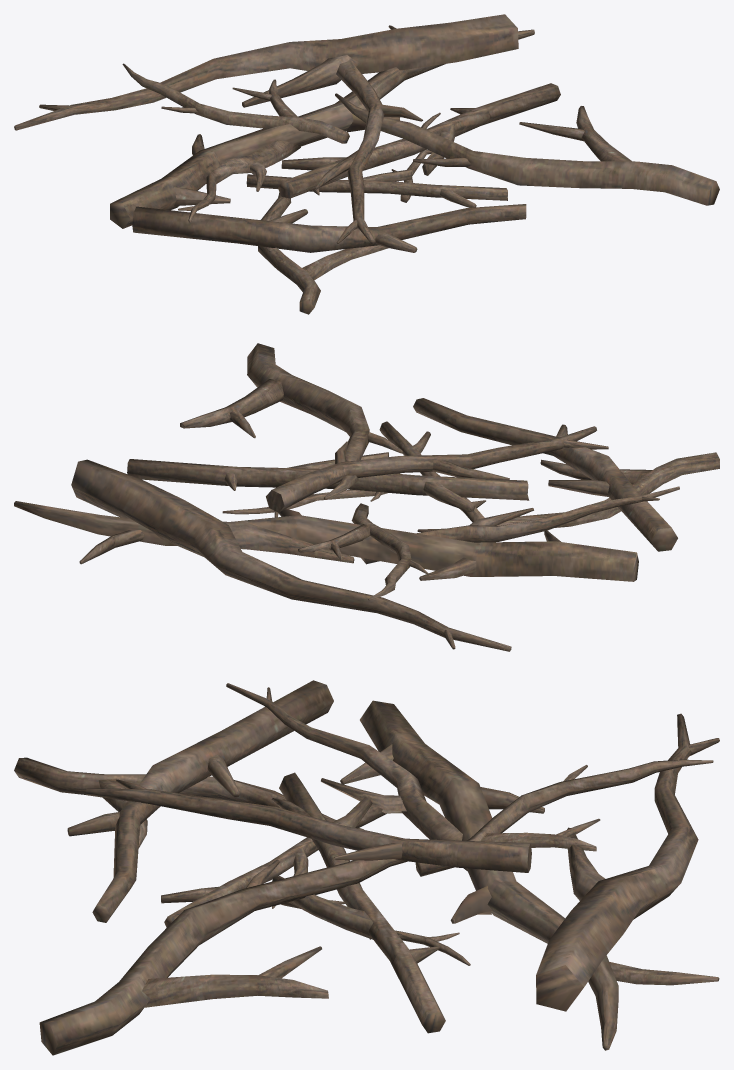
Rendered from CollectibleBranch (4).fbx.
3 renders of one model, top to bottom at view 1: azimuth 30°, elevation 25°; view 2: azimuth 150°, elevation 25°; view 3: azimuth 270°, elevation 25°, orthographic. The views are drawn at different scales.
Parts seen in each view (by area): view 1: ItemBox_Branch_01; view 2: ItemBox_Branch_01; view 3: ItemBox_Branch_01.
Boxes of the visible parts, <box> form: ItemBox_Branch_01: <box>14,14,719,314</box>; ItemBox_Branch_01: <box>14,343,719,651</box>; ItemBox_Branch_01: <box>14,680,719,1055</box>.
Size of the model in its own units: 1.62 by 0.1879 by 1.43.
Materials: 1 (1 with a texture image).
